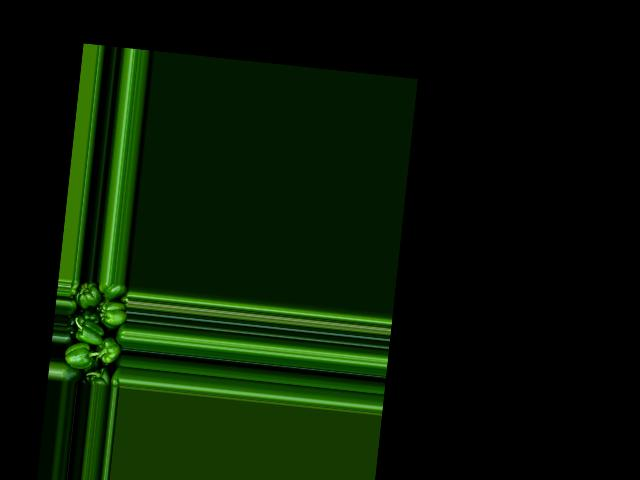bell_pepper: (61, 359, 82, 384)
